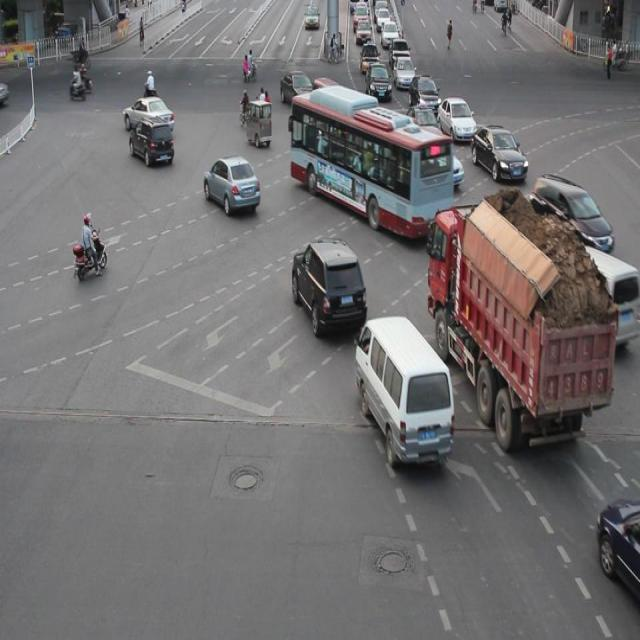bus: (427, 211, 607, 440)
car: (292, 238, 367, 334), (529, 172, 612, 253), (595, 494, 640, 602), (470, 122, 526, 183), (202, 156, 260, 213), (419, 133, 466, 191), (129, 116, 175, 168), (123, 95, 175, 134), (436, 96, 476, 141), (405, 103, 443, 147)
truck: (353, 315, 454, 464)
van: (288, 93, 452, 240)
